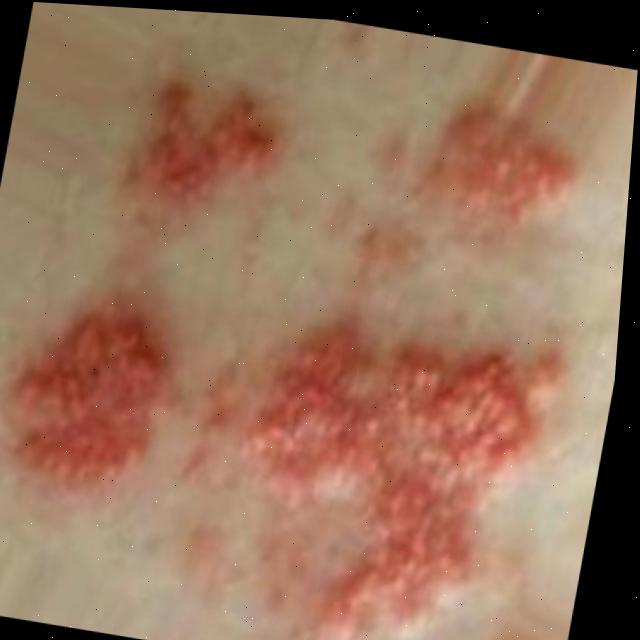Shingles: (204, 300, 582, 640), (0, 288, 199, 517), (119, 71, 299, 217), (410, 102, 593, 232)
